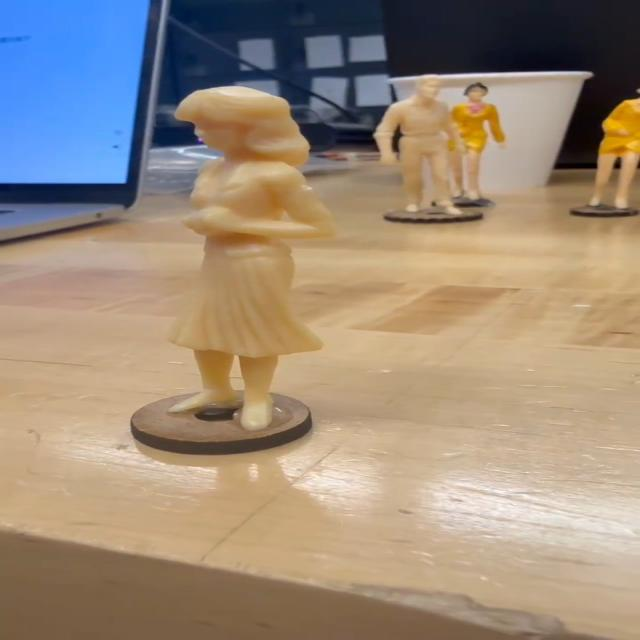Unauthorized: (164, 72, 329, 440)
